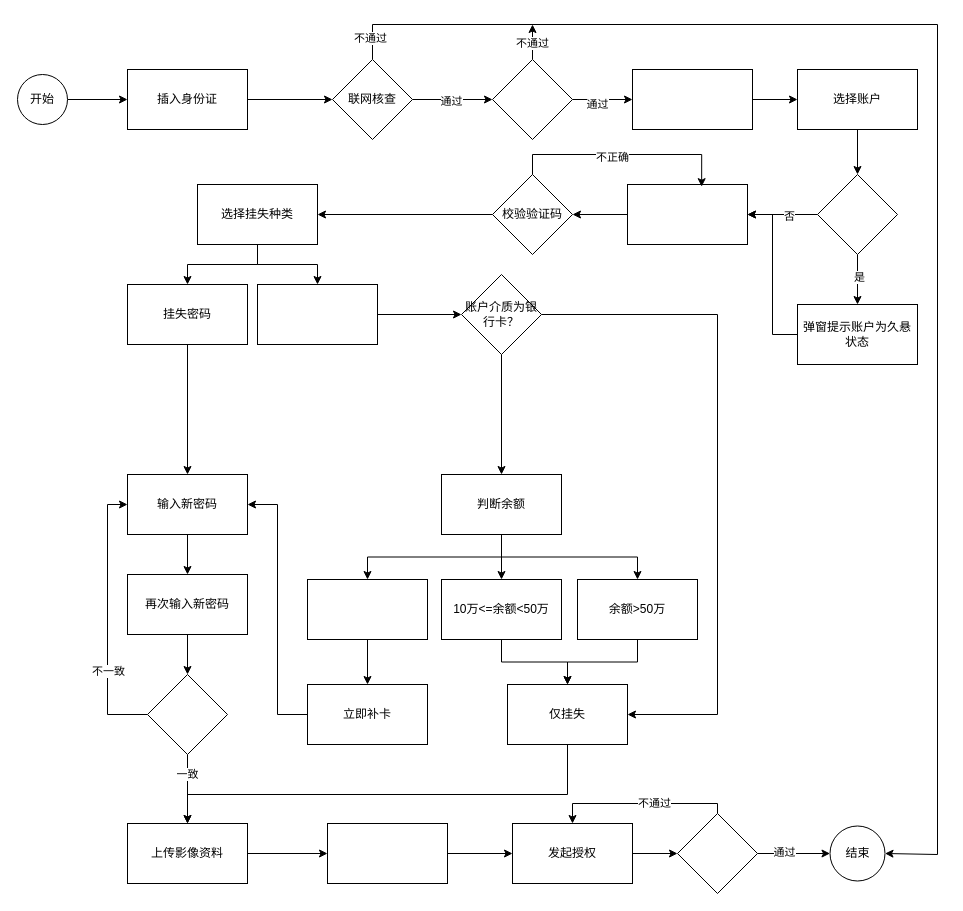
Some shapes in this 963 by 911 pixel diagram are drawn without their labels. The shapes that lost their labels are listed below. From the top down, each one's centre as x and y in pixels, then its label:
the point at 532,99: 人脸识别
the point at 692,99: 回显账户列表
the point at 687,214: 输入验证码
the point at 857,214: 账户状态久悬
the point at 317,314: 凭证密码双挂
the point at 367,609: 余额<10万
the point at 187,714: 两次密码一致
the point at 387,853: 客户签字
the point at 717,853: 授权通过
